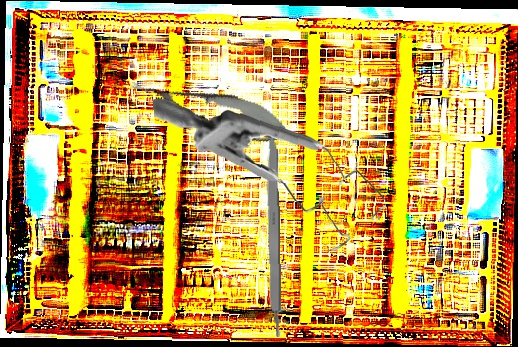Micro Scissor: (124, 65, 301, 155)
Scalpel Handle: (264, 132, 282, 338)
Speculum: (152, 87, 389, 260)
